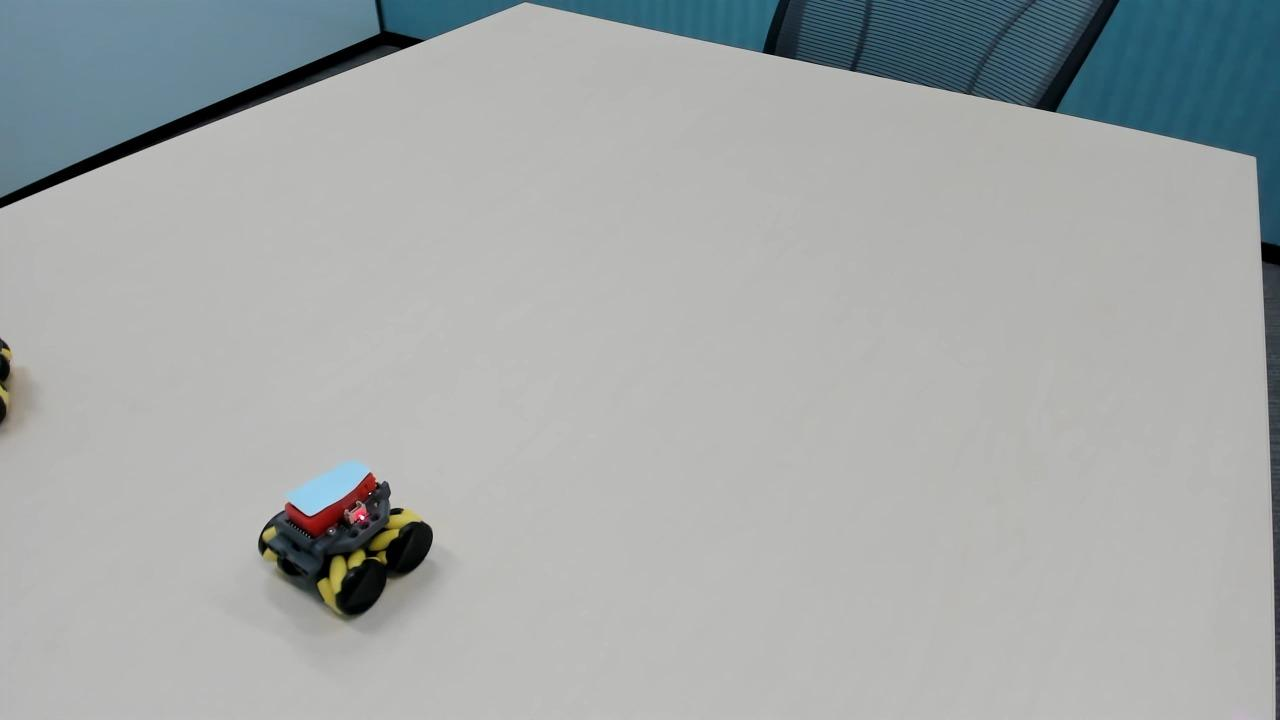B-Robot: (250, 450, 442, 622)
